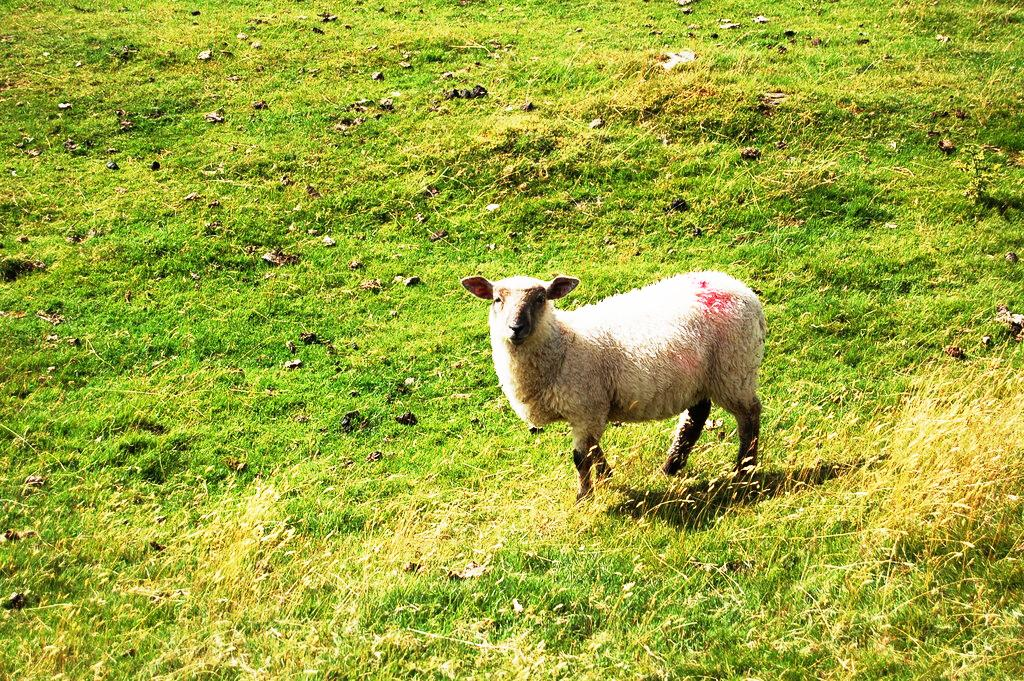Sheep: (460, 274, 766, 501)
